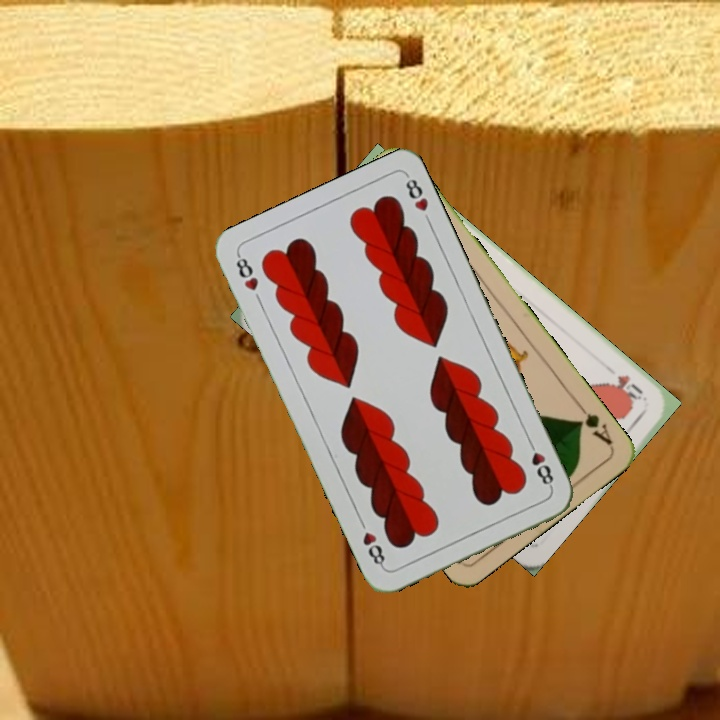GA: (572, 398, 615, 448)
H8: (523, 436, 556, 491), (232, 250, 261, 293)
HO: (608, 370, 646, 405)
